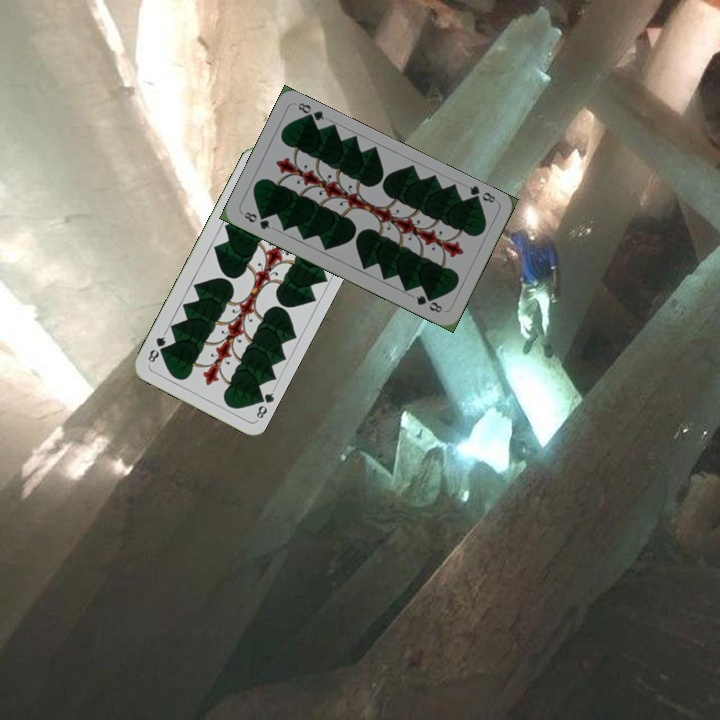G8: (251, 385, 278, 423), (465, 181, 498, 206), (240, 208, 273, 232)
